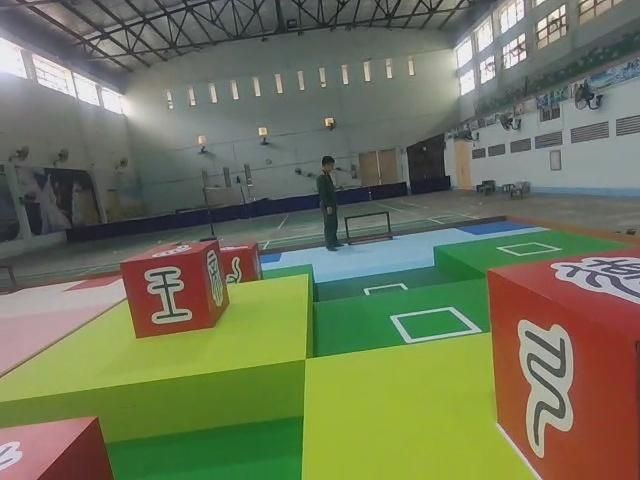R2 Fake: (487, 250, 640, 480), (120, 241, 230, 340)
R2 Real: (214, 241, 263, 287)
